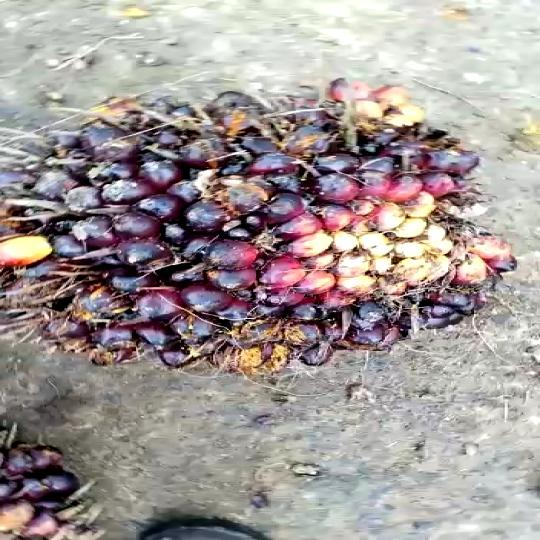masak: (0, 73, 516, 385)
